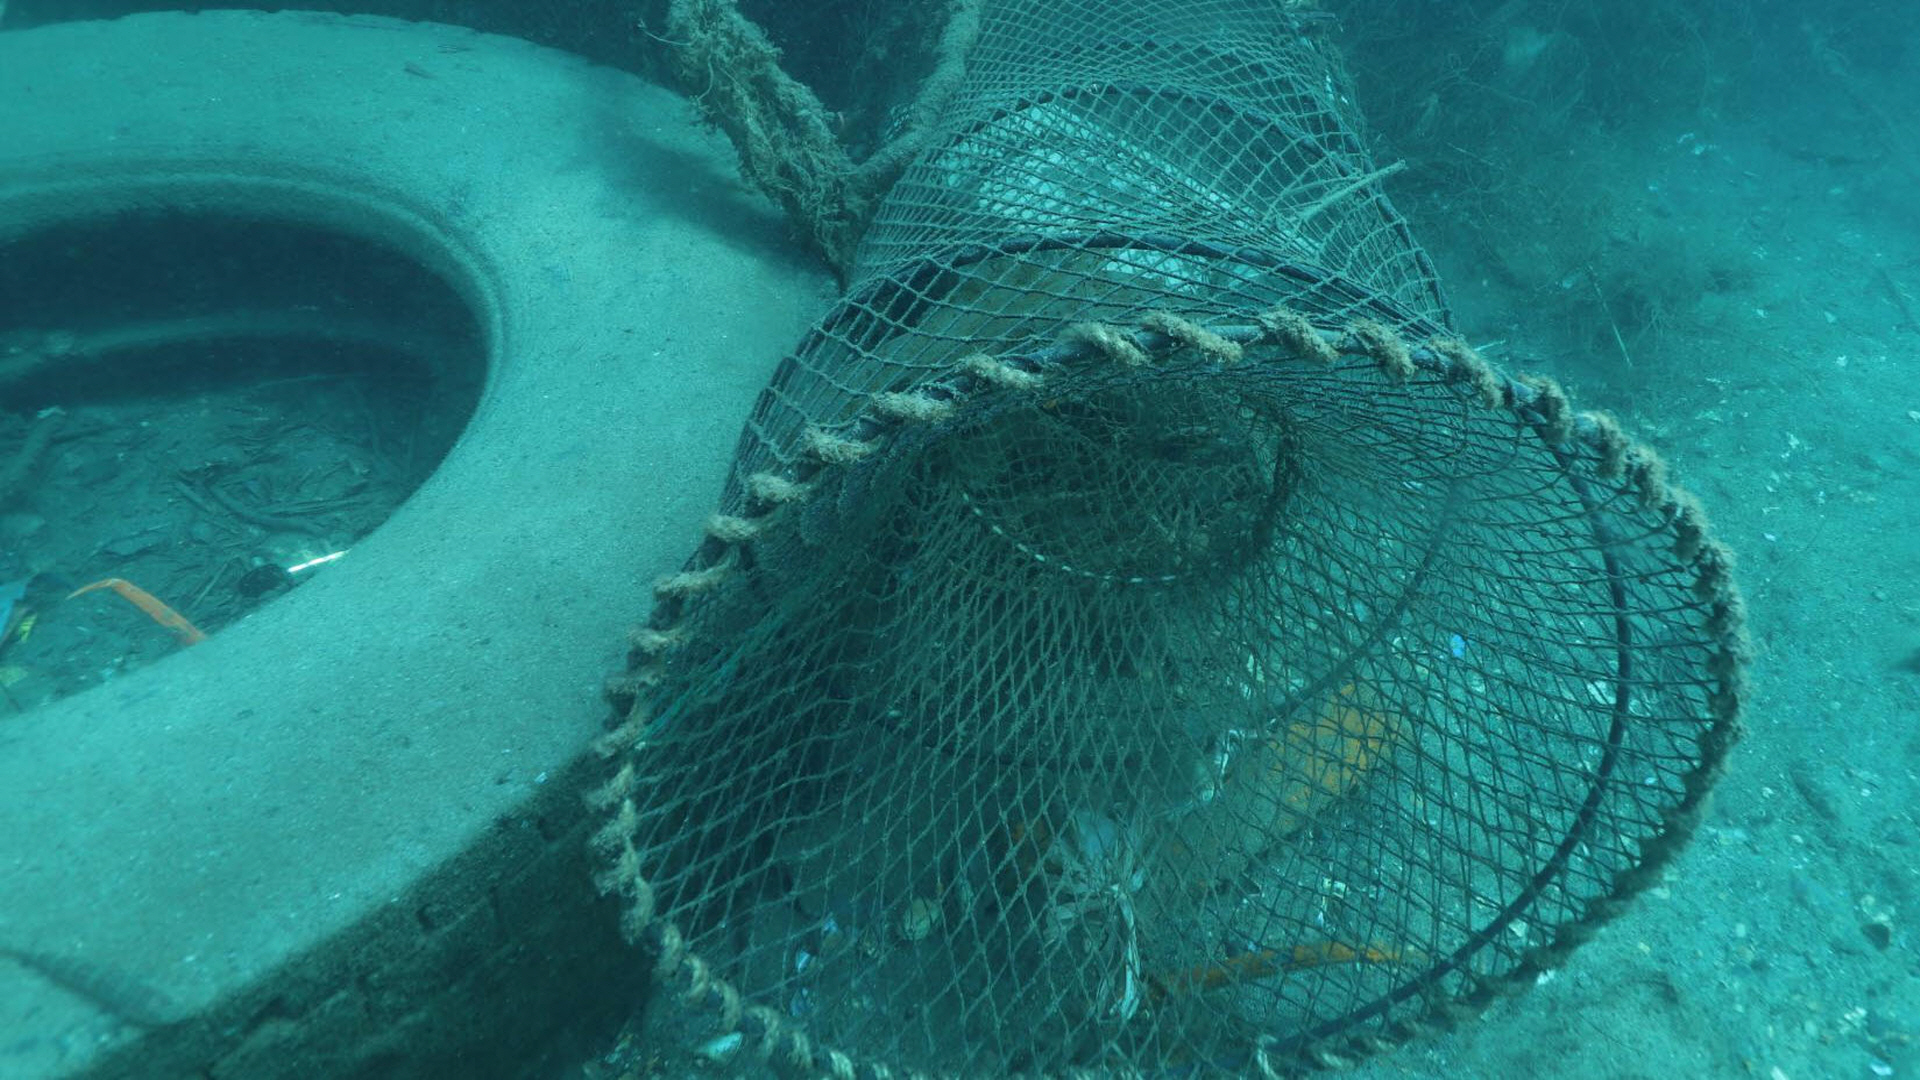spring fish trap: (584, 0, 1746, 1080)
tire: (0, 8, 833, 1080)
